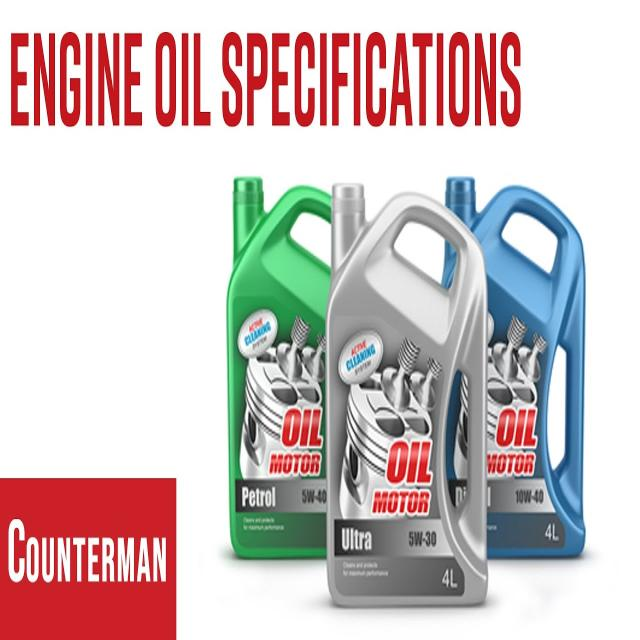motor_oil: (330, 179, 490, 609)
